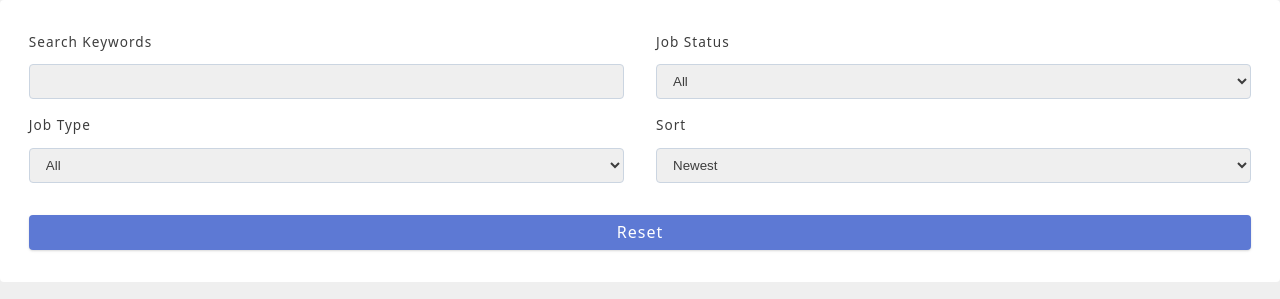
job search reset › resets form controls without treating the reset link as a form input
The image size is (1280, 299).
Type "Acme" into the search field at (326, 82), box [29,64,624,99]
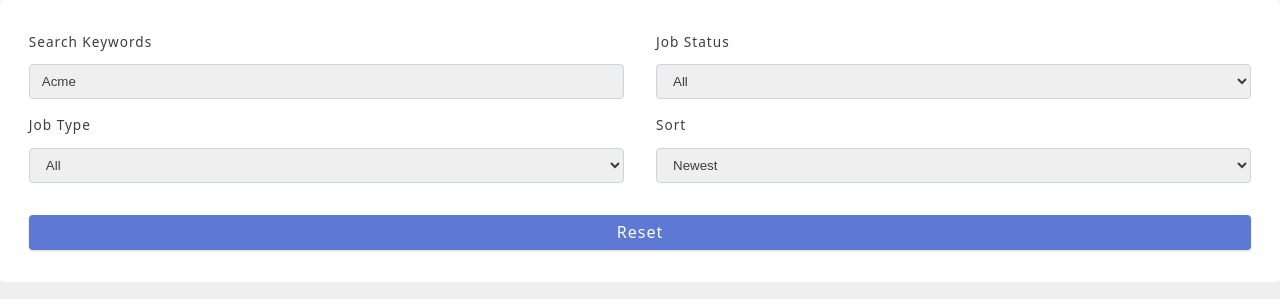
Click the link "Reset" at (640, 232), box [29,215,1251,250]
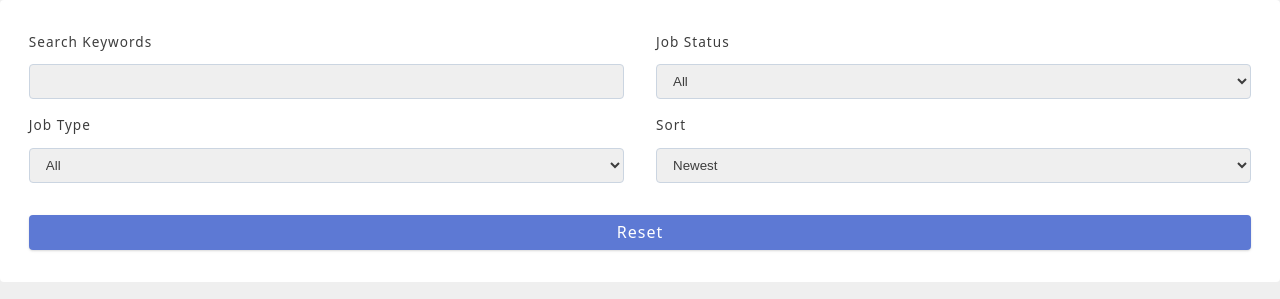
Check: the search field is empty, box [29,64,624,99]
